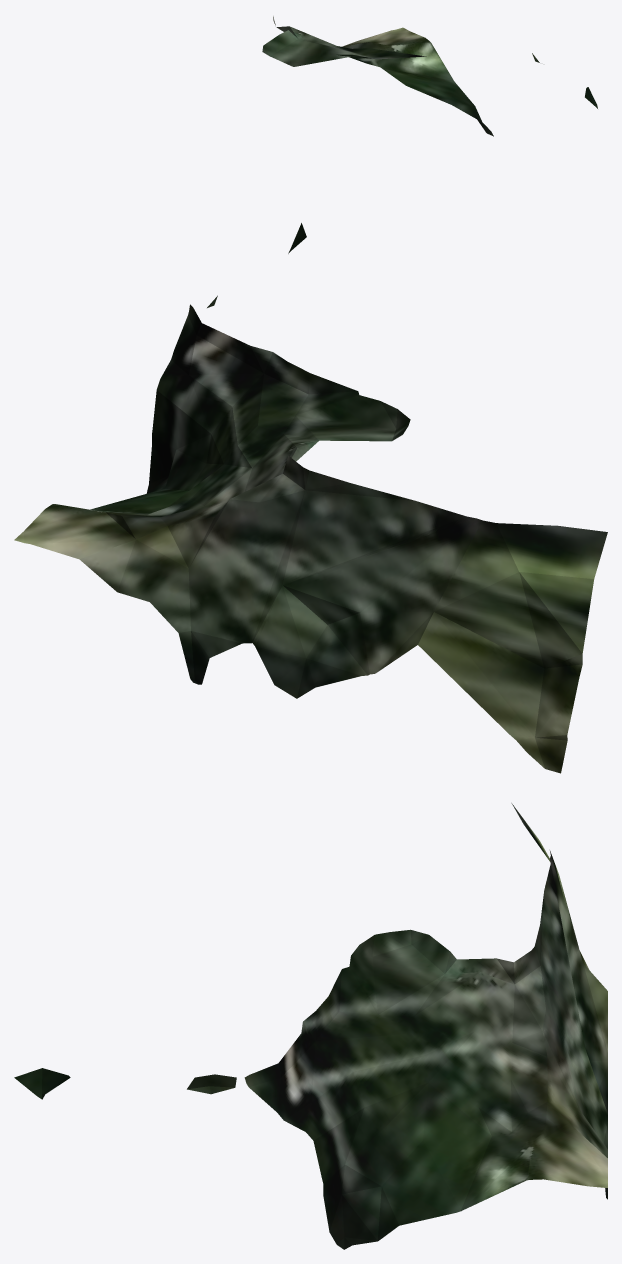
The picture shows the model from 3 angles, top to bottom: view 1: azimuth 30°, elevation 25°; view 2: azimuth 150°, elevation 25°; view 3: azimuth 270°, elevation 25°; orthographic projection. The views are drawn at different scales.
Size of the model in its own units: 1.67 by 0.6058 by 1.53.
Materials: 1 (1 with a texture image).
